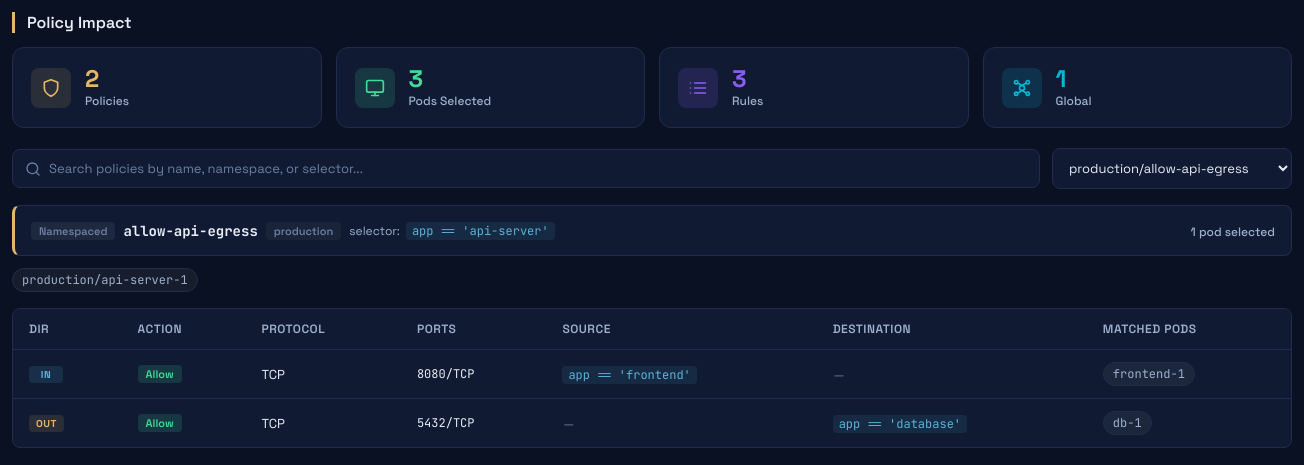
Test: PolicyImpactPanel › searches policies by name
Type "default-deny" into the field with placeholder "Search policies by name, namespace, or selector..." at {"x": 538, "y": 169}, box x1=49 y1=150 x2=1027 y2=187
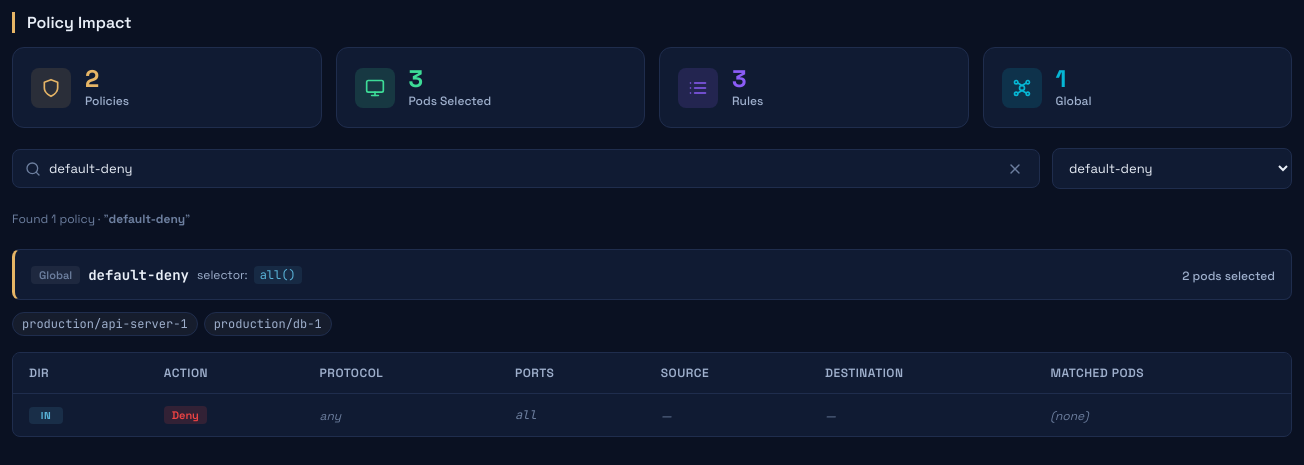
Now the text "2 pods selected" is shown, box x1=1182 y1=268 x2=1275 y2=284
